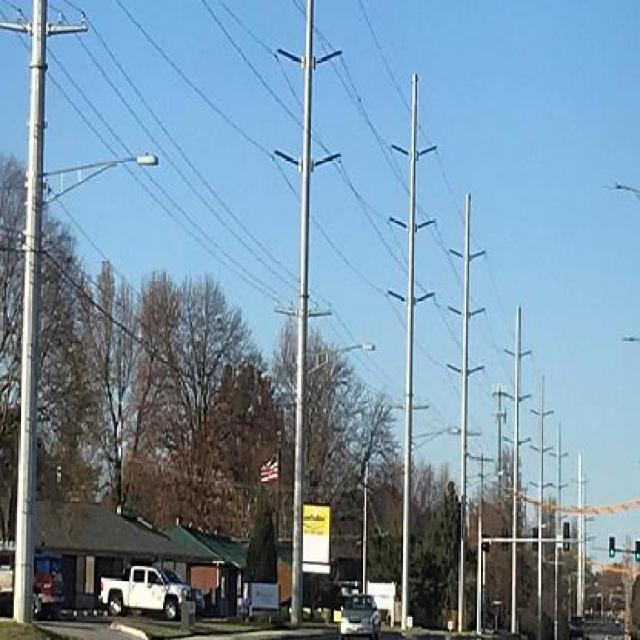pole: (260, 7, 342, 616)
